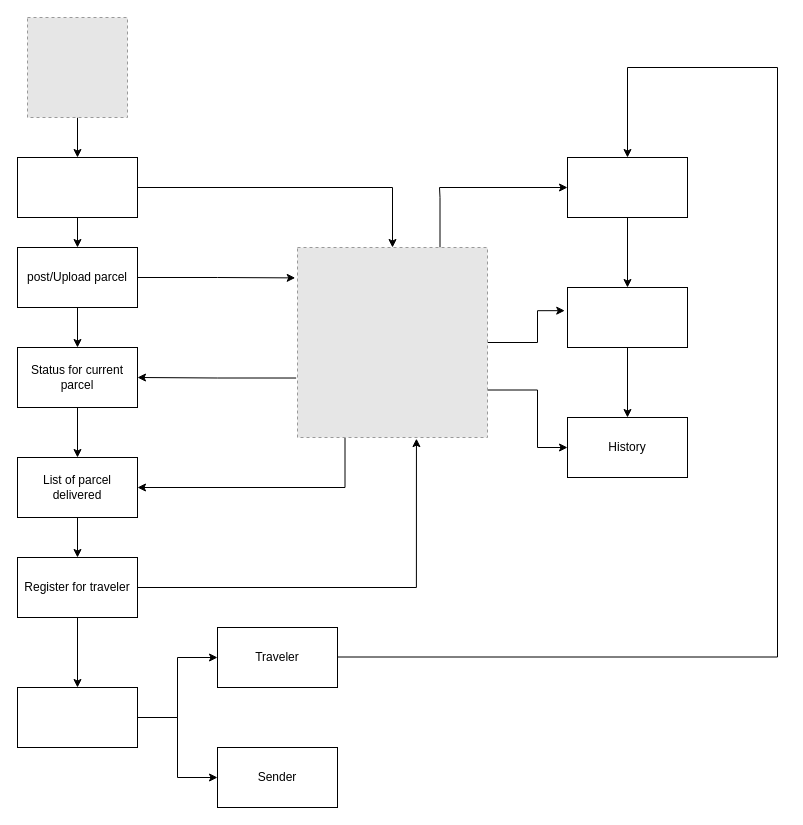
Some shapes in this 803 by 825 pixel diagram are drawn without their labels. Grey dashed boxes stand in for pictures. The centre of each missing label's shape, as x and y in pixels:
Find parcel: (x=627, y=187)
List of parcel had: (x=627, y=317)
Role: (x=77, y=717)
Signup/login: (x=77, y=187)
